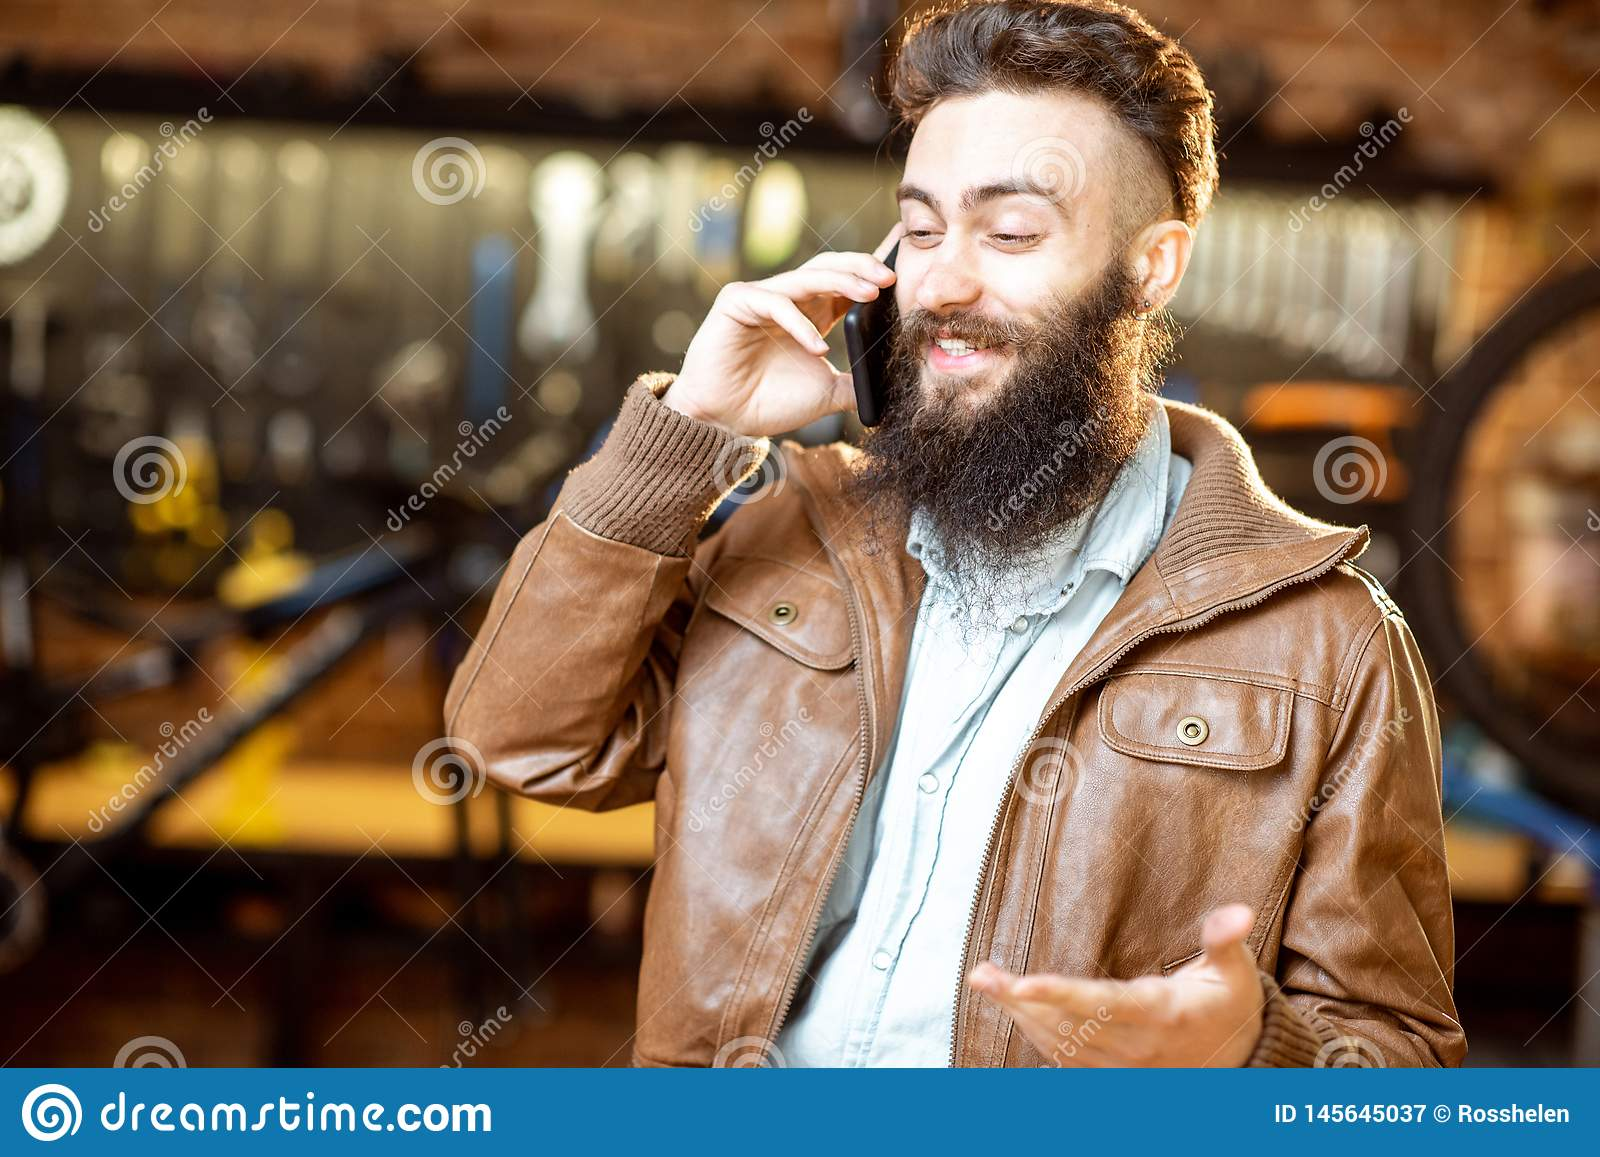phone: (845, 231, 902, 429)
talk: (676, 150, 1076, 429)
